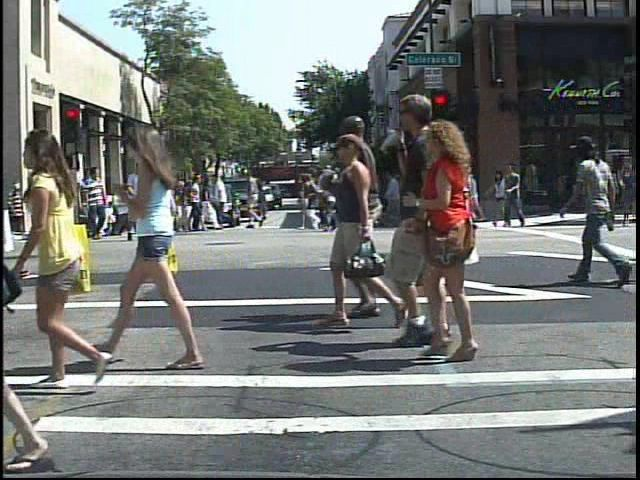person: (361, 86, 478, 349), (16, 123, 128, 382), (405, 120, 519, 364), (110, 112, 207, 376), (0, 105, 60, 473), (568, 122, 639, 293), (82, 162, 112, 241), (453, 159, 484, 232), (32, 167, 60, 244), (126, 160, 147, 246), (9, 180, 29, 242), (94, 181, 114, 221)
